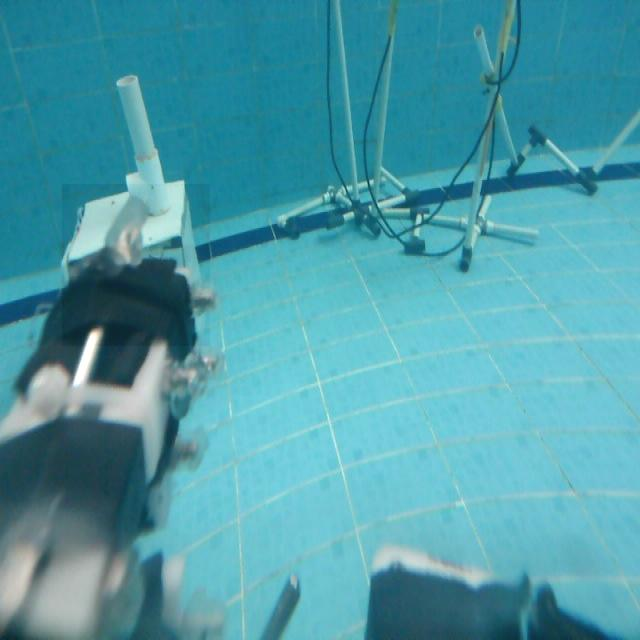Cube: (62, 184, 210, 346)
